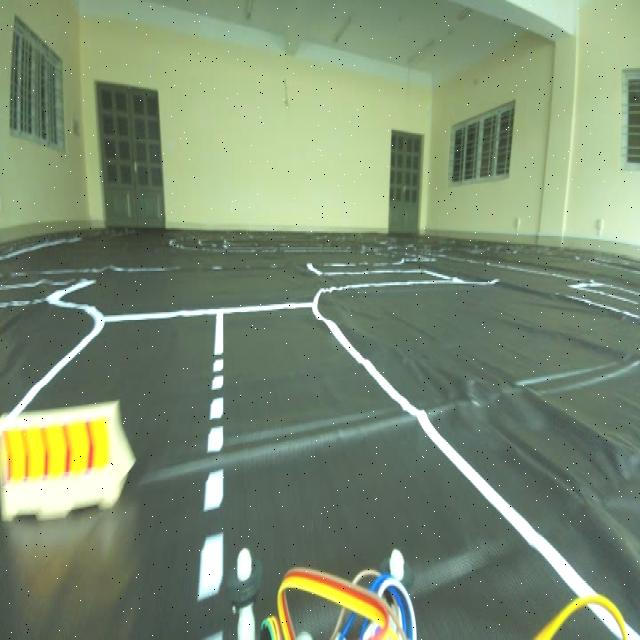roadblock: (4, 417, 144, 513)
